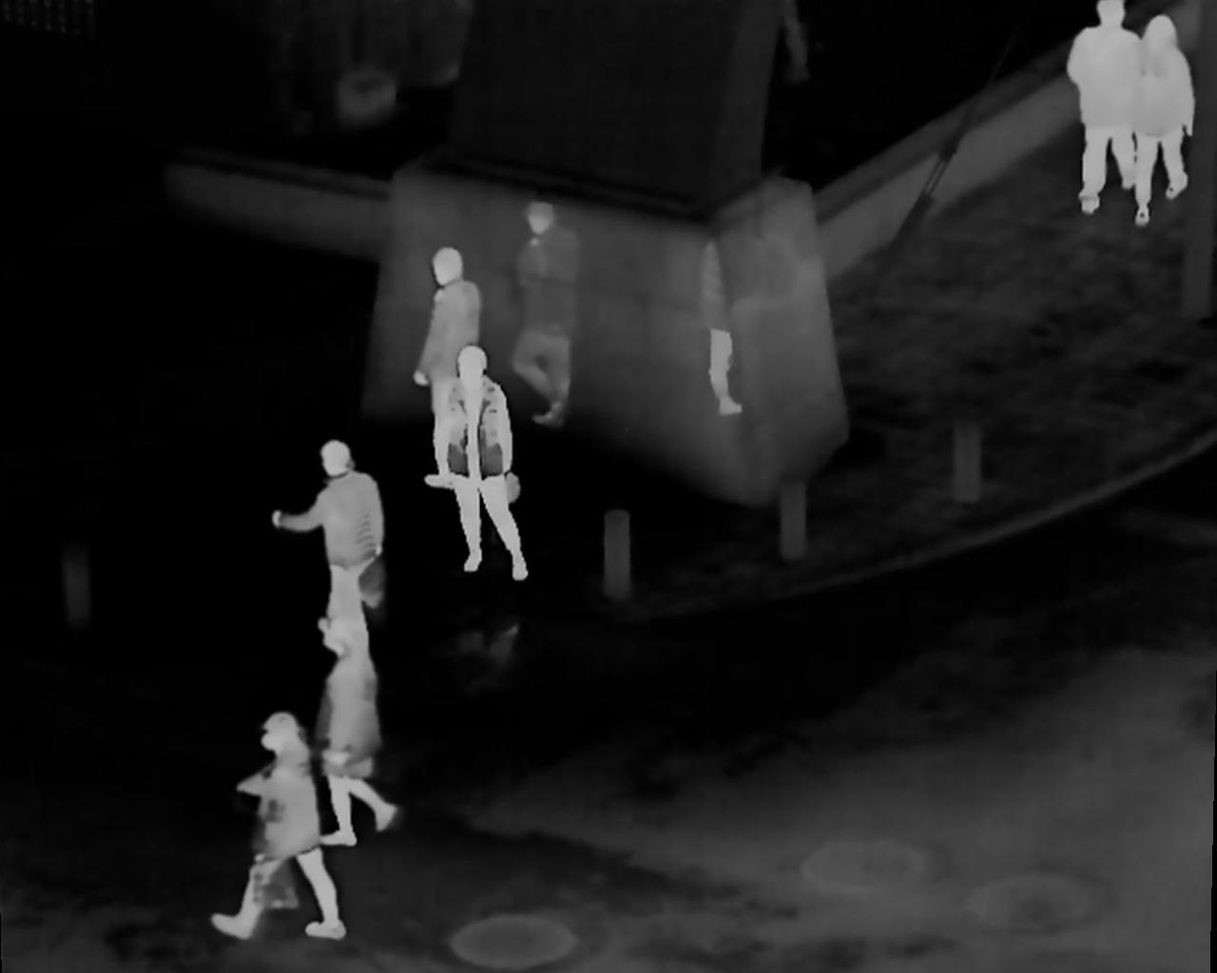person: (211, 714, 337, 945), (273, 434, 393, 658), (410, 242, 490, 497), (451, 343, 533, 587), (309, 614, 395, 840), (1125, 15, 1193, 236)
